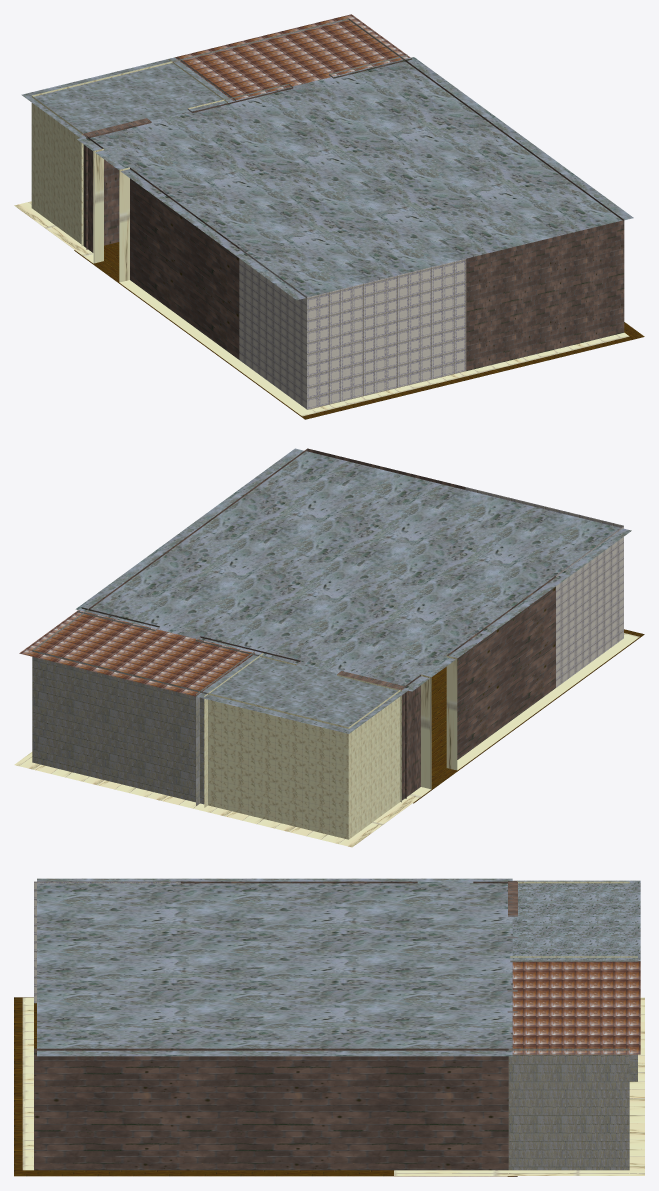
File: crack_house_v2.glb
3 renders of one model, top to bottom at view 1: azimuth 30°, elevation 25°; view 2: azimuth 150°, elevation 25°; view 3: azimuth 270°, elevation 25°, orthographic. The views are drawn at different scales.
Parts seen in each view (by area): view 1: ceiling_room.001, outside_walls_k_1, outside_walls_s1, outside_walls.001, ceiling_room, ceiling_toilet, outside_walls, outside_walls_k_2, outside_walls_b_1, Floor_salon, toilet_w_front, outside_walls_i_1; view 2: ceiling_room.001, outside_walls, outside_walls_b_1, outside_walls.001, ceiling_room, ceiling_toilet, outside_walls_k_2, Floor_salon, outside_walls_i_1, toilet_w_side, toilet_w_front, outside_walls_s1 (+1 smaller); view 3: ceiling_room.001, outside_walls, ceiling_room, ceiling_toilet, Floor_salon, outside_walls_k_2, toilet_w_side, outside_walls.001.
Part boxes in pixels (box(x1,y1,x2,y2)): ceiling_room.001: box(77, 57, 633, 300); outside_walls_k_1: box(307, 259, 466, 409); outside_walls_s1: box(466, 220, 624, 370); outside_walls.001: box(130, 168, 239, 359); ceiling_room: box(175, 14, 410, 100); ceiling_toilet: box(21, 57, 233, 138); outside_walls: box(14, 18, 629, 416); outside_walls_k_2: box(239, 248, 307, 409); outside_walls_b_1: box(31, 61, 172, 245); Floor_salon: box(74, 242, 644, 419); toilet_w_front: box(81, 118, 151, 249); outside_walls_i_1: box(84, 134, 103, 252); ceiling_room.001: box(75, 448, 631, 691); outside_walls: box(14, 448, 639, 847); outside_walls_b_1: box(208, 689, 400, 839); outside_walls.001: box(447, 576, 555, 759); ceiling_room: box(19, 610, 254, 696); ceiling_toilet: box(196, 653, 407, 733); outside_walls_k_2: box(556, 526, 623, 687); Floor_salon: box(413, 629, 644, 803); outside_walls_i_1: box(401, 674, 420, 800); toilet_w_side: box(196, 651, 263, 807); toilet_w_front: box(337, 671, 406, 802); outside_walls_s1: box(307, 448, 465, 489); ceiling_room.001: box(37, 878, 512, 1056); outside_walls: box(22, 997, 644, 1175); ceiling_room: box(512, 961, 640, 1054); ceiling_toilet: box(512, 880, 640, 961); Floor_salon: box(14, 997, 513, 1176); outside_walls_k_2: box(34, 881, 180, 1003); toilet_w_side: box(510, 956, 637, 1081); outside_walls.001: box(181, 881, 417, 883).
Bounding box in the file's own units: 10.42 × 3.47 × 15.51.
Materials: 20 (20 with a texture image).
